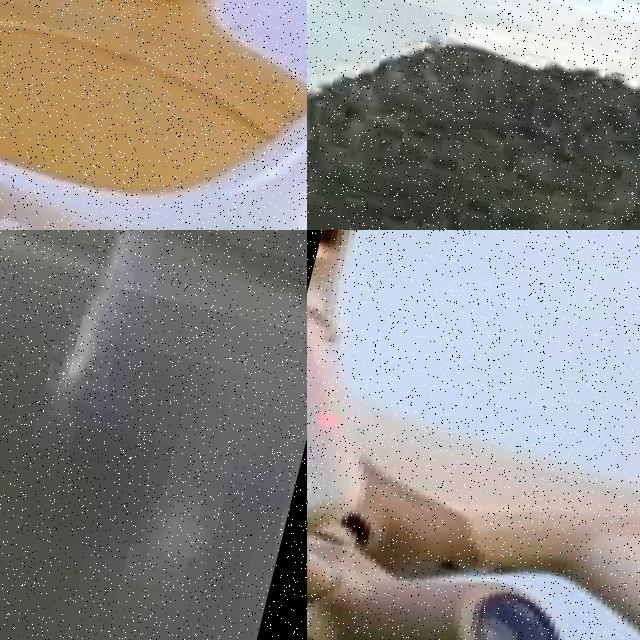drone: (307, 230, 640, 640), (0, 0, 307, 230)
